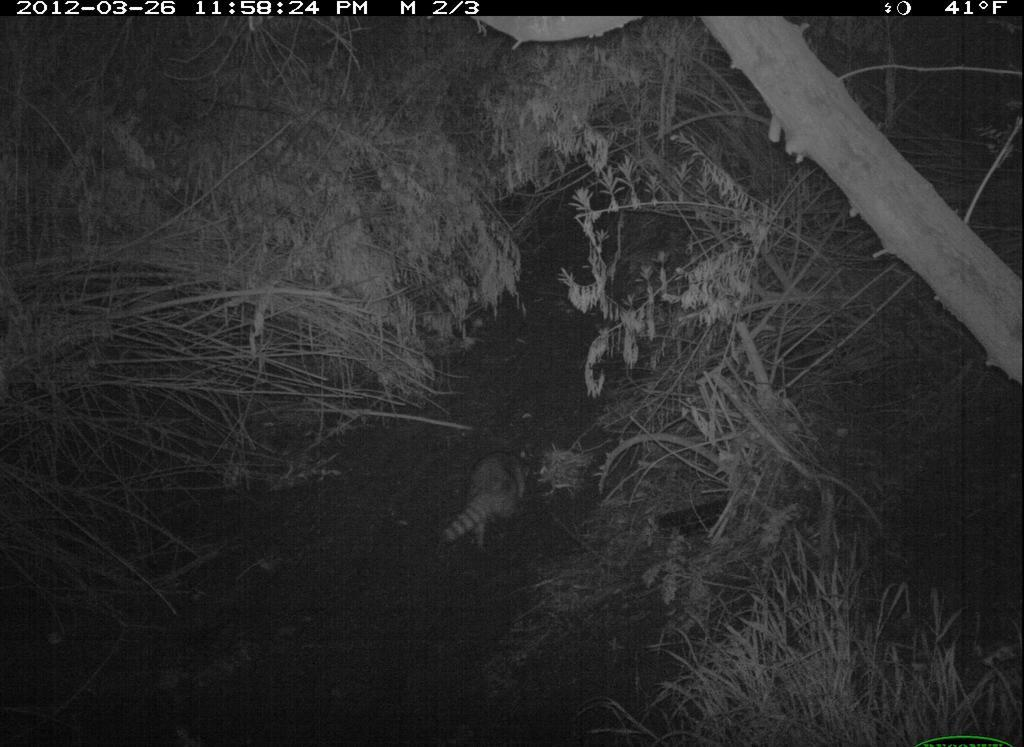raccoon: (431, 442, 537, 561)
